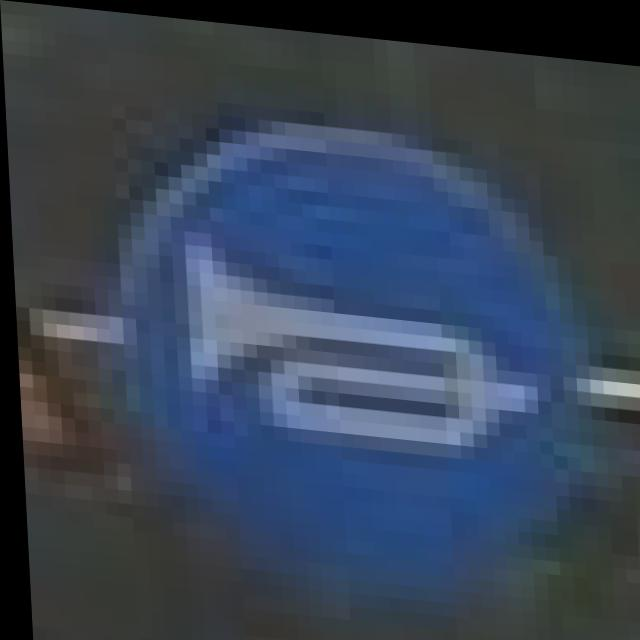COMPULSARY_SOUND_HORN: (112, 97, 587, 600)
